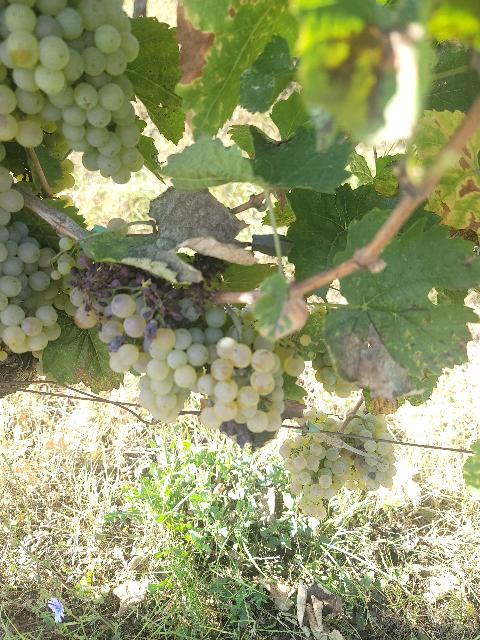grapes: (0, 0, 141, 182), (99, 294, 209, 422), (0, 221, 61, 358), (198, 336, 284, 432), (279, 435, 358, 520), (344, 414, 396, 491), (0, 169, 21, 219)
